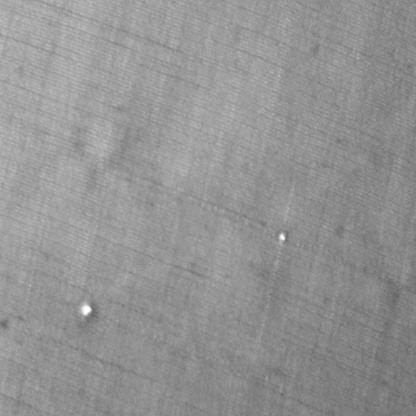hole: (74, 295, 98, 329), (274, 226, 288, 247)
